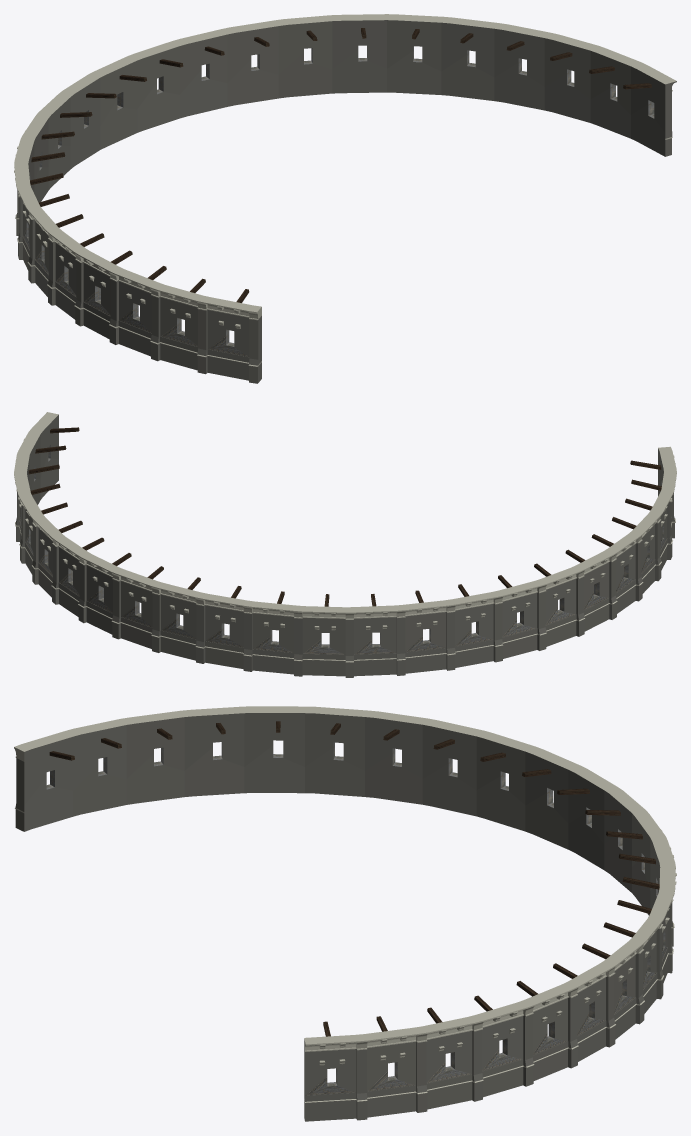
File: parteSuperiorColiseo.fbx
3 renders of one model, top to bottom at view 1: azimuth 30°, elevation 25°; view 2: azimuth 150°, elevation 25°; view 3: azimuth 270°, elevation 25°, orthographic. The views are drawn at different scales.
Visible parts, largest first — view 1: muro3; view 2: muro3; view 3: muro3.
Part boxes in pixels (left/top/right/bottom): muro3: left=14, top=14, right=676, bottom=383; muro3: left=14, top=412, right=676, bottom=677; muro3: left=14, top=706, right=676, bottom=1121.
Size of the model in its own units: 17185 by 1894 by 14216.
Materials: 3 (2 with a texture image).
